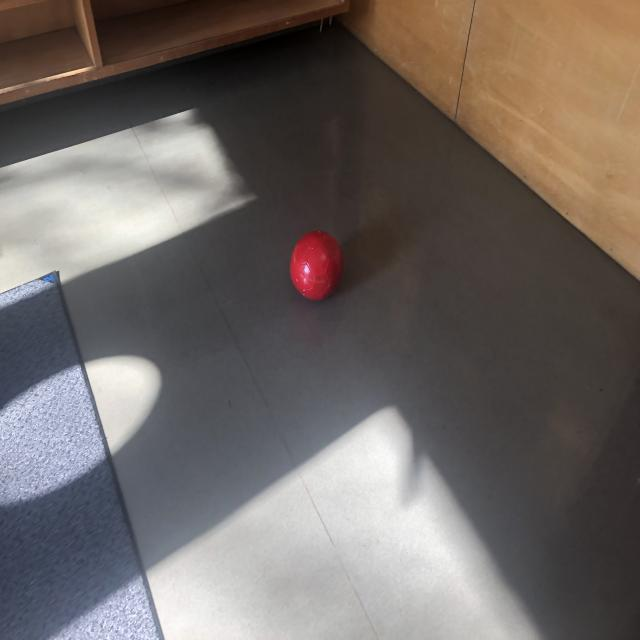red_ball: (288, 229, 344, 302)
